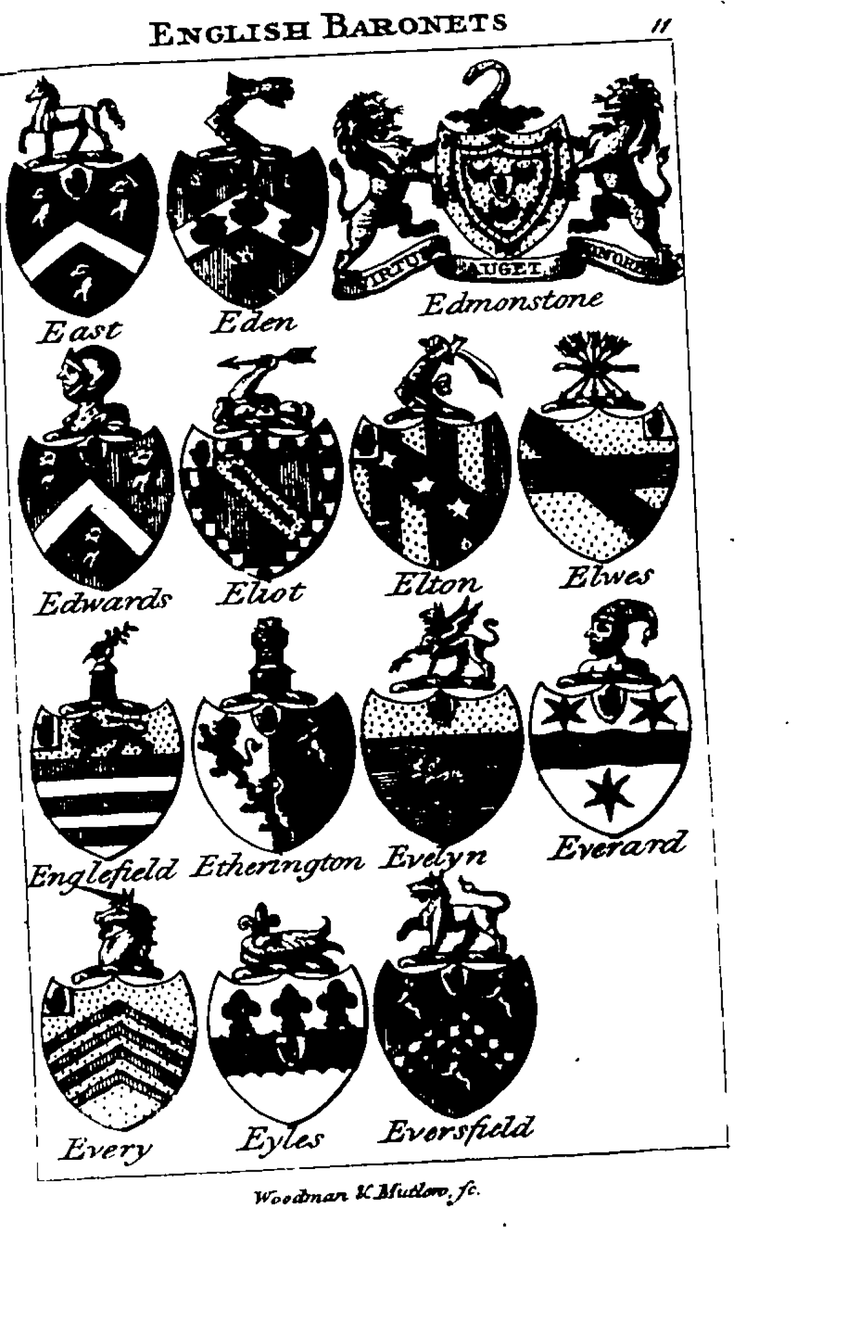coat_of_arms: (345, 61, 685, 319)
